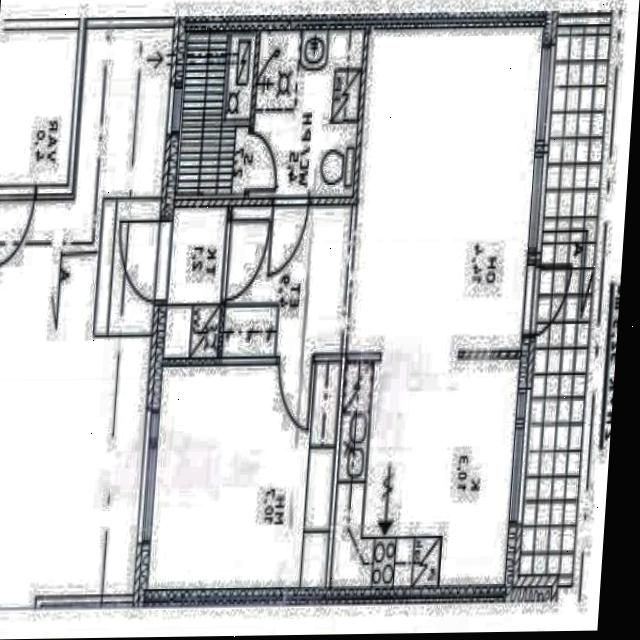room: (147, 351, 339, 600), (330, 348, 518, 597), (249, 25, 362, 203), (162, 204, 225, 360)
